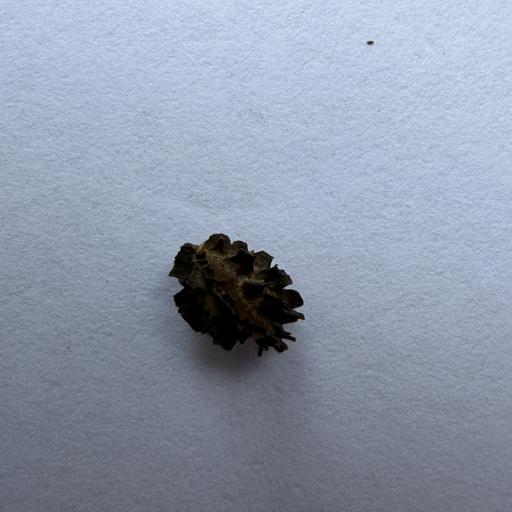papaya_seed: (154, 225, 330, 371)
